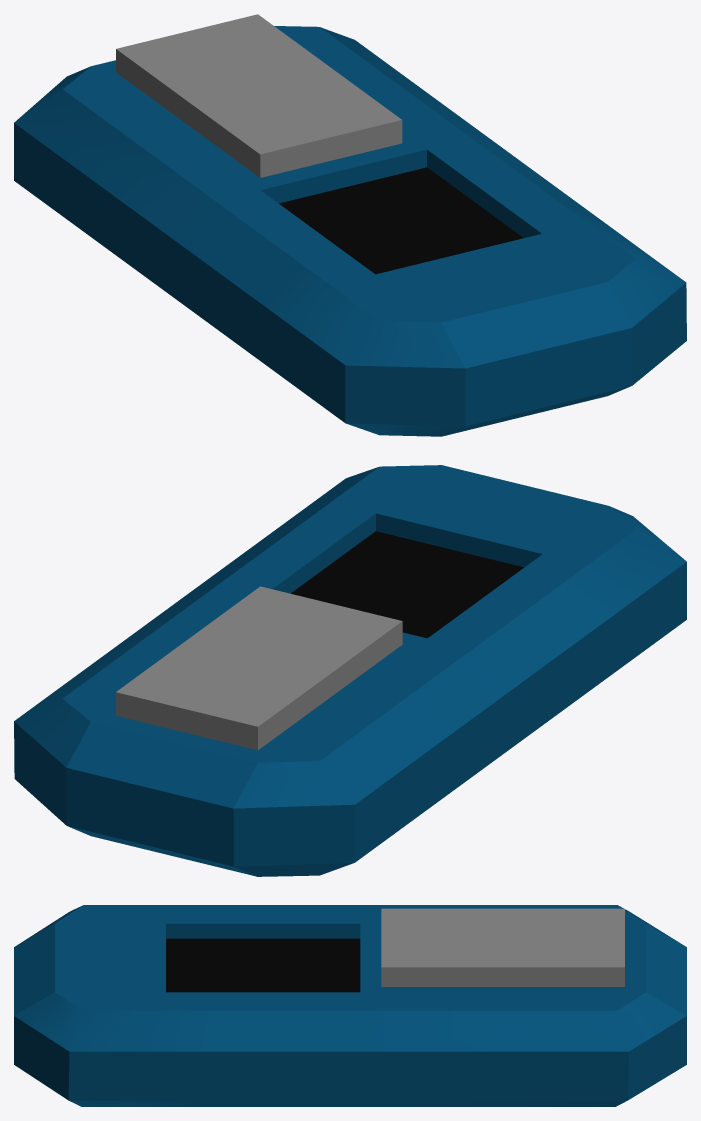
Rendered from nokia.FBX.
3 views of the same model, one above another, from view 1: azimuth 30°, elevation 25°; view 2: azimuth 150°, elevation 25°; view 3: azimuth 270°, elevation 25° (orthographic). The views are drawn at different scales.
Visible parts, largest first — view 1: kannykka; view 2: kannykka; view 3: kannykka.
Boxes of the visible parts, box(x1,y1,x2,y2) form: kannykka: box(14, 14, 686, 436); kannykka: box(14, 465, 686, 876); kannykka: box(14, 905, 686, 1106).
Size of the model in its own units: 11.29 by 4.36 by 22.9.
